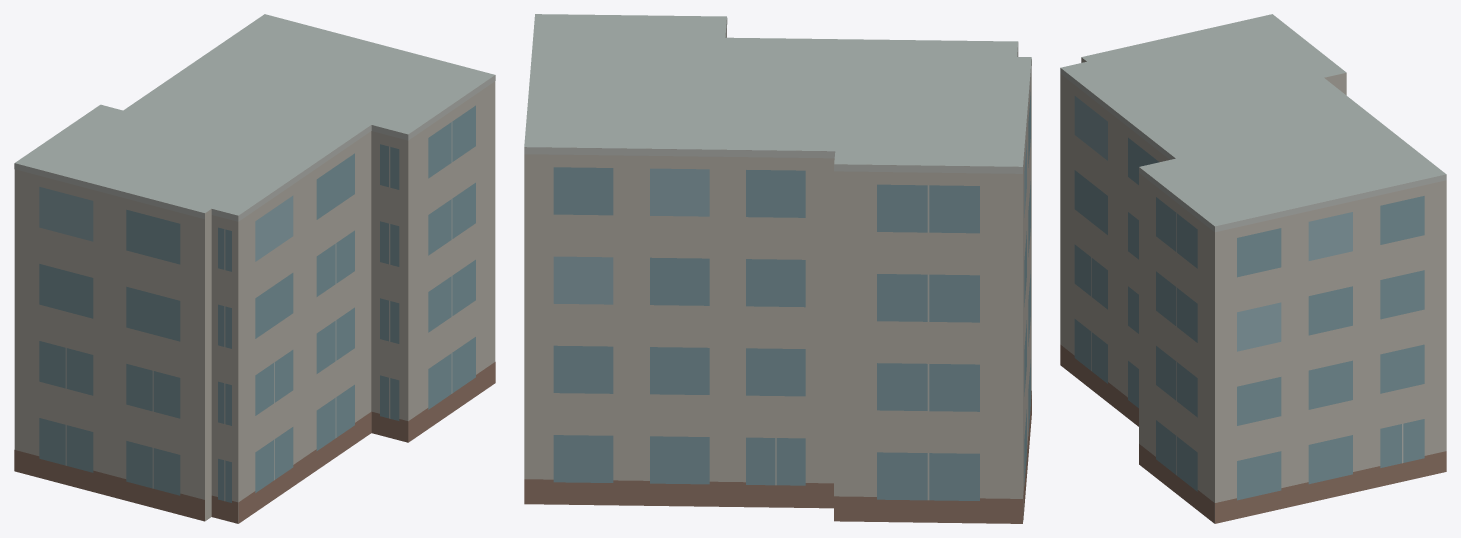
Rendered from survey-upis-32801846.glb.
3 renders of one model, left to right at view 1: azimuth 30°, elevation 25°; view 2: azimuth 150°, elevation 25°; view 3: azimuth 270°, elevation 25°, orthographic. The views are drawn at different scales.
Visible parts, largest first — view 1: survey-upis-32801846.tmp; view 2: survey-upis-32801846.tmp; view 3: survey-upis-32801846.tmp.
Part boxes in pixels (x1=…): survey-upis-32801846.tmp: x1=14, y1=14, x2=495, y2=523; survey-upis-32801846.tmp: x1=524, y1=14, x2=1031, y2=523; survey-upis-32801846.tmp: x1=1060, y1=14, x2=1446, y2=523.
Size of the model in its own units: 18.85 by 12.3 by 14.48.
